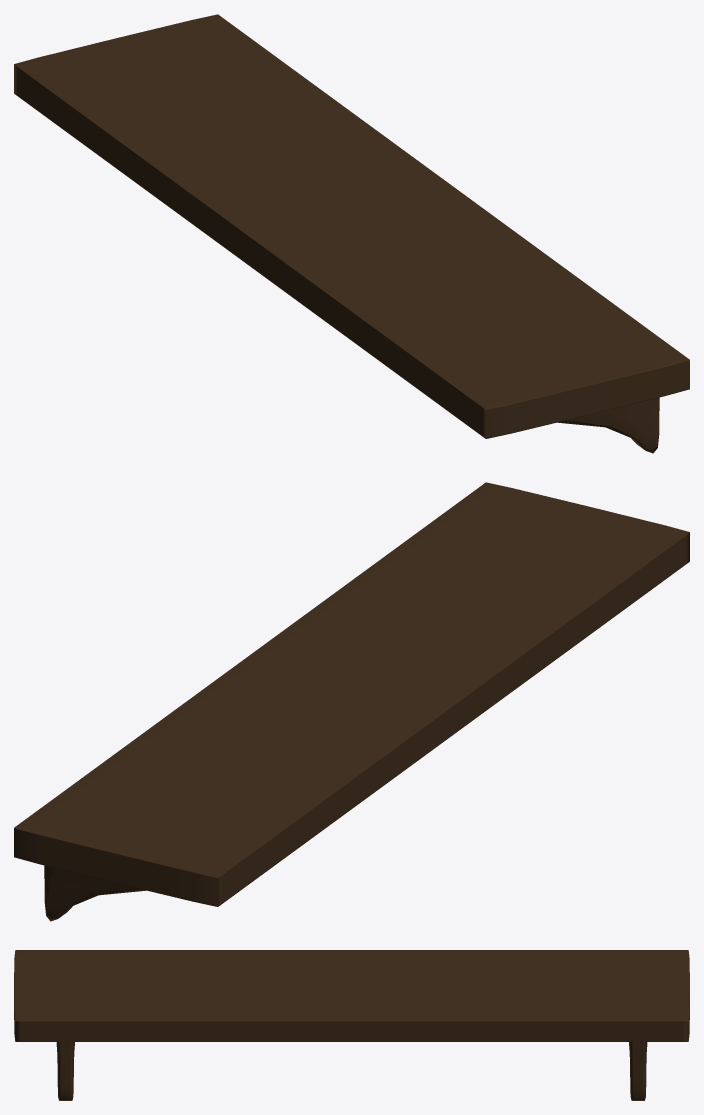
File: Platform11.fbx
3 renders of one model, top to bottom at view 1: azimuth 30°, elevation 25°; view 2: azimuth 150°, elevation 25°; view 3: azimuth 270°, elevation 25°, orthographic. The views are drawn at different scales.
Visible parts, largest first — view 1: pCube36; view 2: pCube36; view 3: pCube36.
Part boxes in pixels (x1,y1,x2,y2): pCube36: (14,14,689,453); pCube36: (14,482,689,921); pCube36: (14,950,689,1100).
Bounding box in the file's own units: 2.93 × 1.58 × 11.8.
